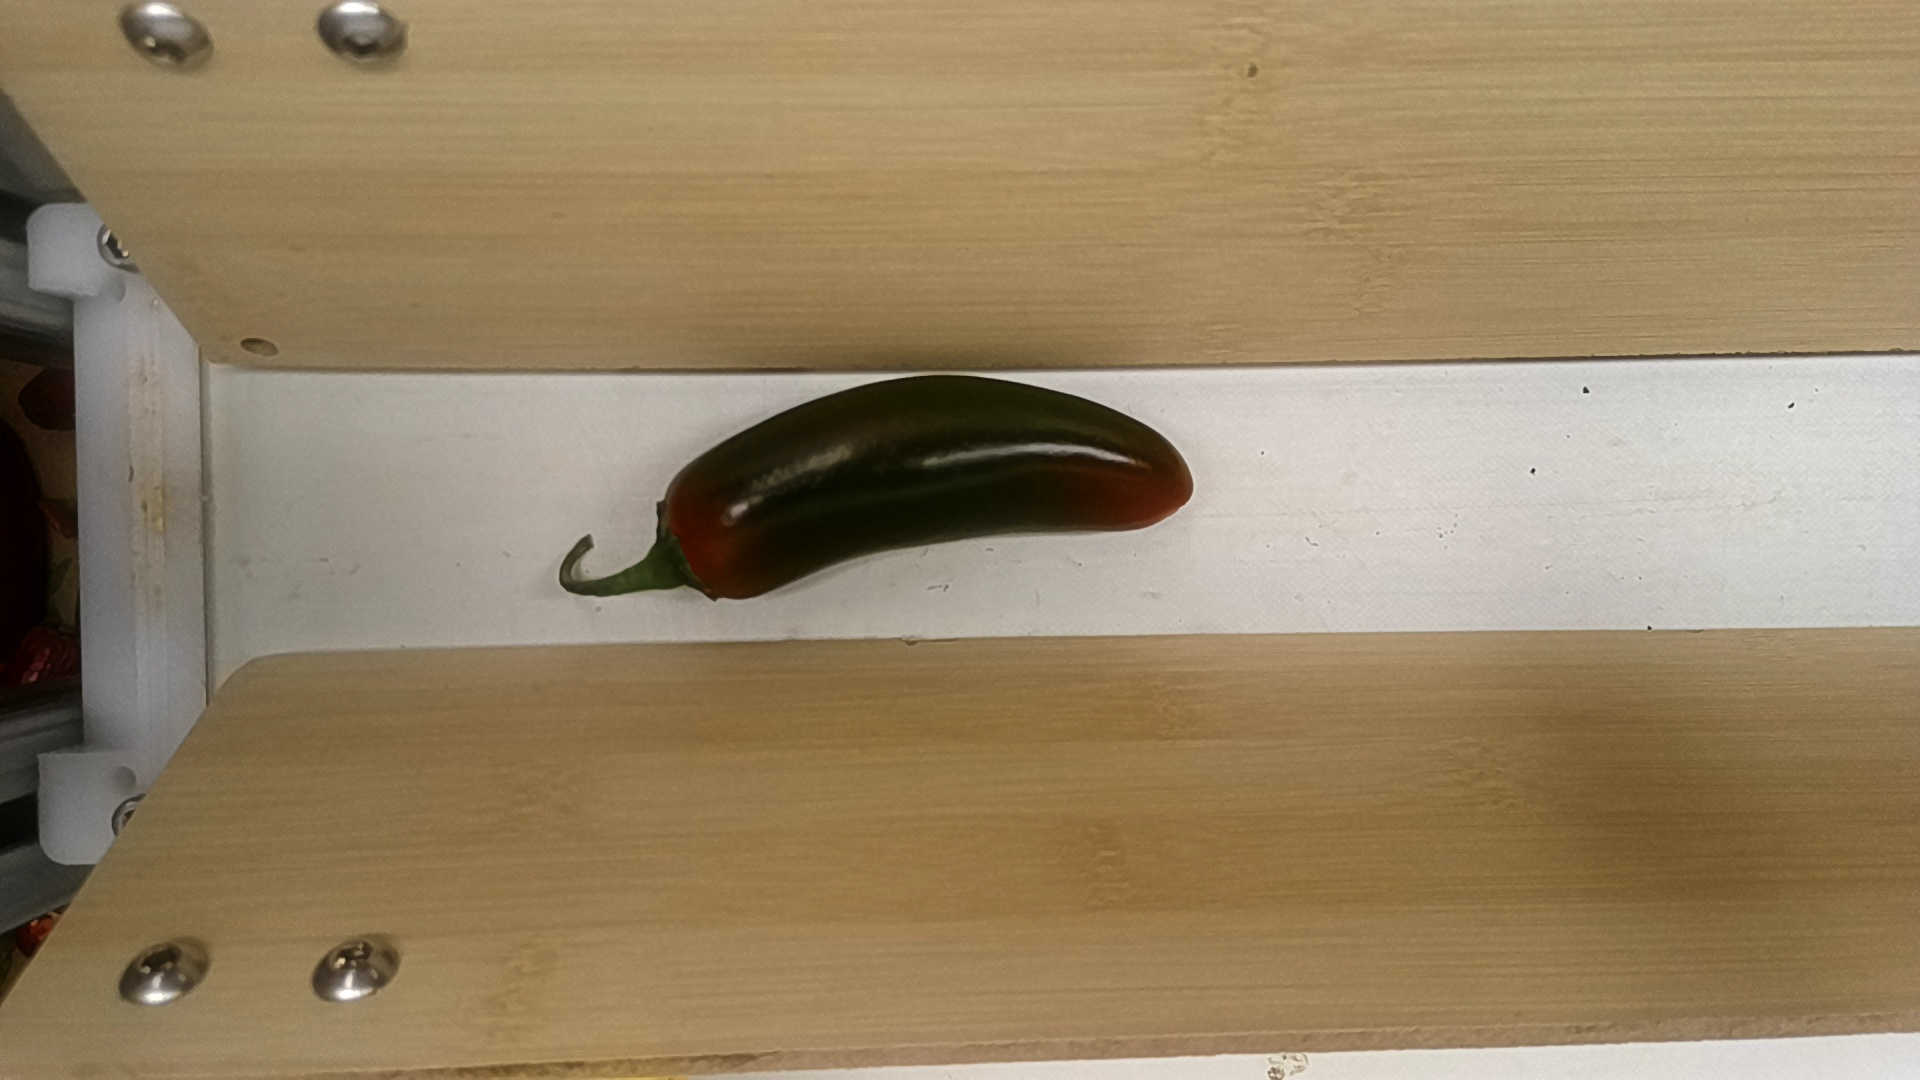Cut Point: (644, 465, 745, 615)
